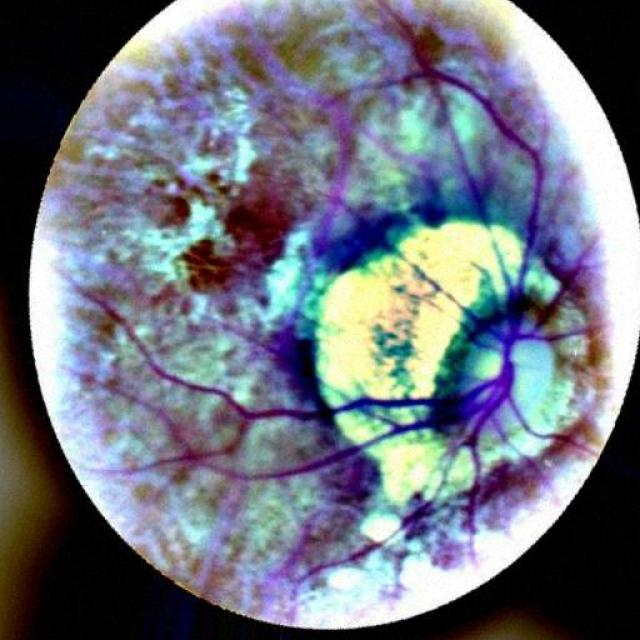Macula: (192, 182, 291, 281)
Nerves: (84, 61, 588, 579)
Optic Disk: (314, 216, 585, 502)
